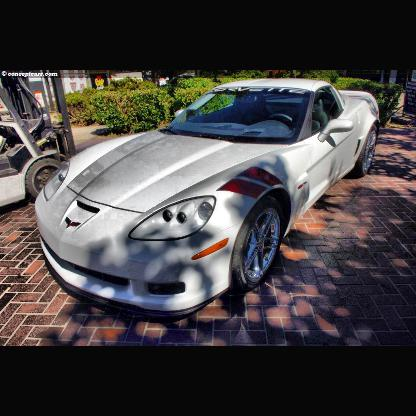Chevrolet Corvette Ron Fellows Edition Z06 2007: (37, 79, 378, 314)
